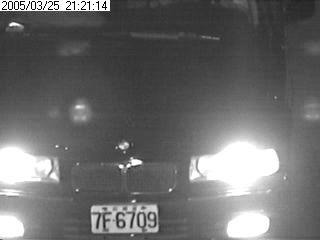plate: (87, 202, 162, 235)
